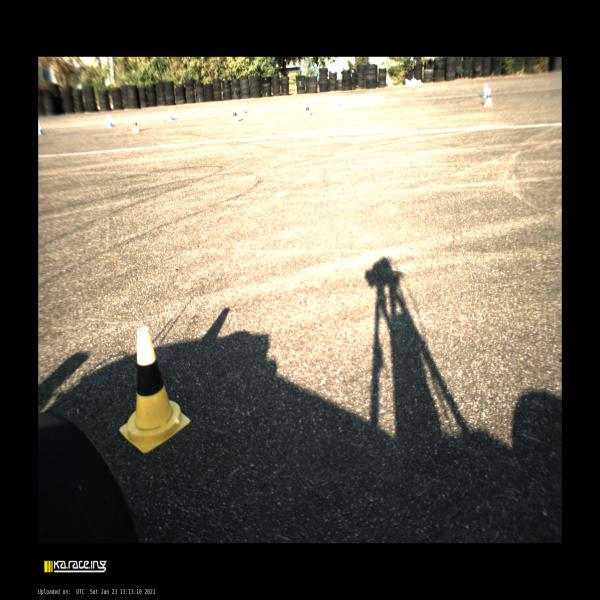blue_cone: (105, 113, 114, 128), (239, 101, 246, 114), (167, 107, 174, 120), (334, 94, 341, 106), (481, 82, 486, 98), (38, 122, 44, 134)
yellow_cone: (118, 325, 192, 454), (483, 87, 493, 106), (130, 116, 140, 134), (231, 105, 239, 123), (303, 100, 311, 118)
